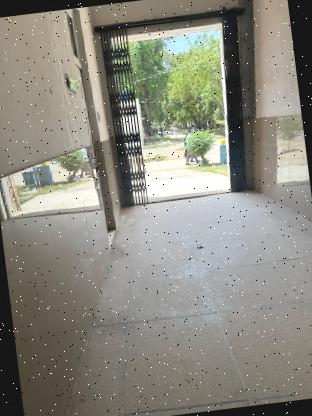door: (97, 4, 260, 212)
